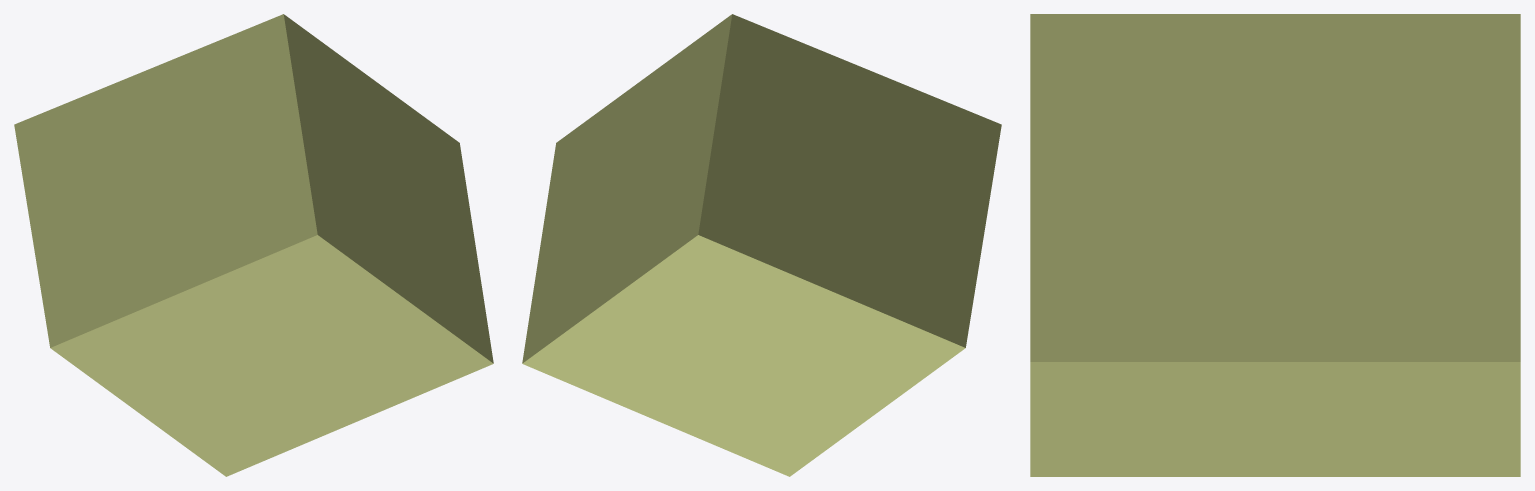
The picture shows the model from 3 angles, left to right: view 1: azimuth 30°, elevation 25°; view 2: azimuth 150°, elevation 25°; view 3: azimuth 270°, elevation 25°; orthographic projection. The views are drawn at different scales.
Visible parts, largest first — view 1: 0_1_2_3_3_3_3_3_0_3_2; view 2: 0_1_2_3_3_3_3_3_0_3_2; view 3: 0_1_2_3_3_3_3_3_0_3_2.
Boxes of the visible parts, x1,y1,x2,y2 form: 0_1_2_3_3_3_3_3_0_3_2: [14, 14, 493, 476]; 0_1_2_3_3_3_3_3_0_3_2: [522, 14, 1001, 476]; 0_1_2_3_3_3_3_3_0_3_2: [1030, 14, 1520, 476].
Size of the model in its own units: 8.96 by 7.81 by 9.
